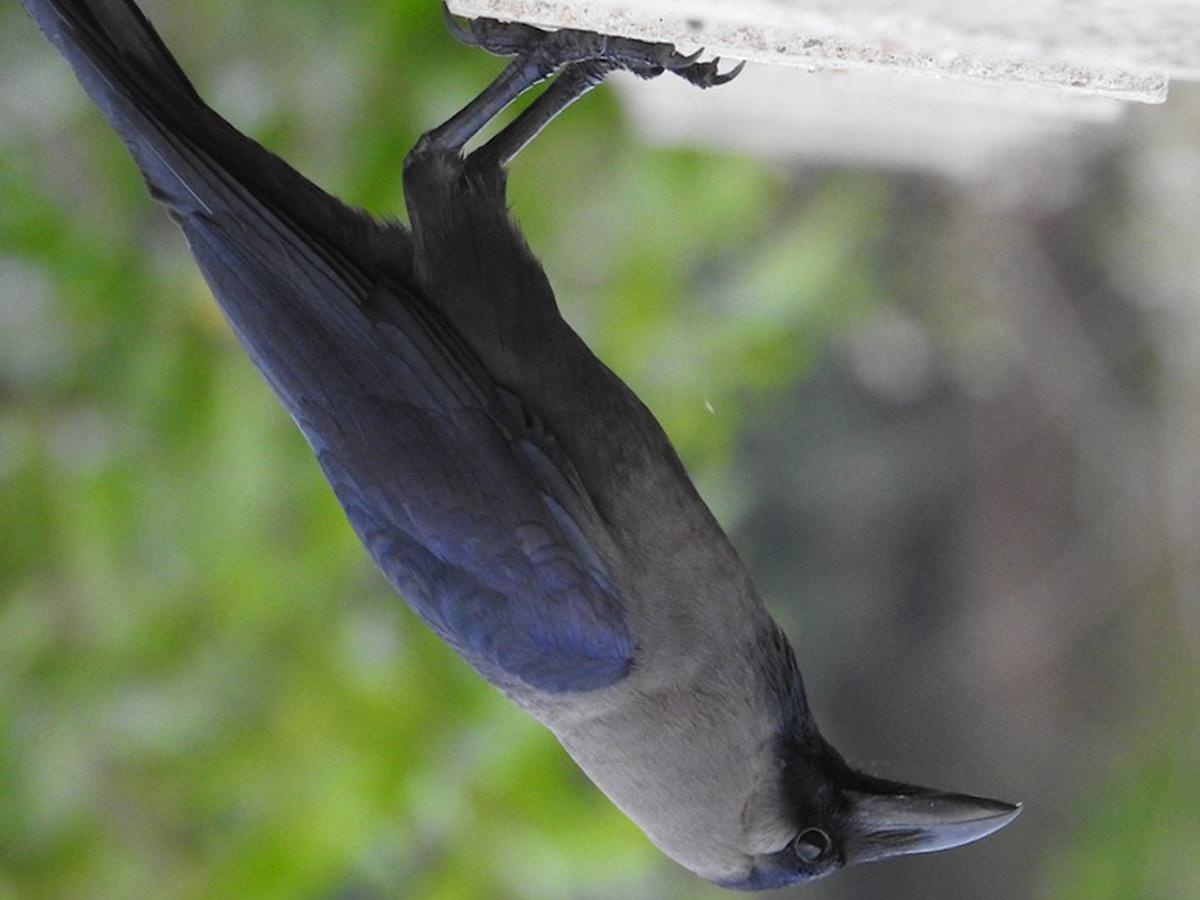crow: (1, 1, 1027, 895)
